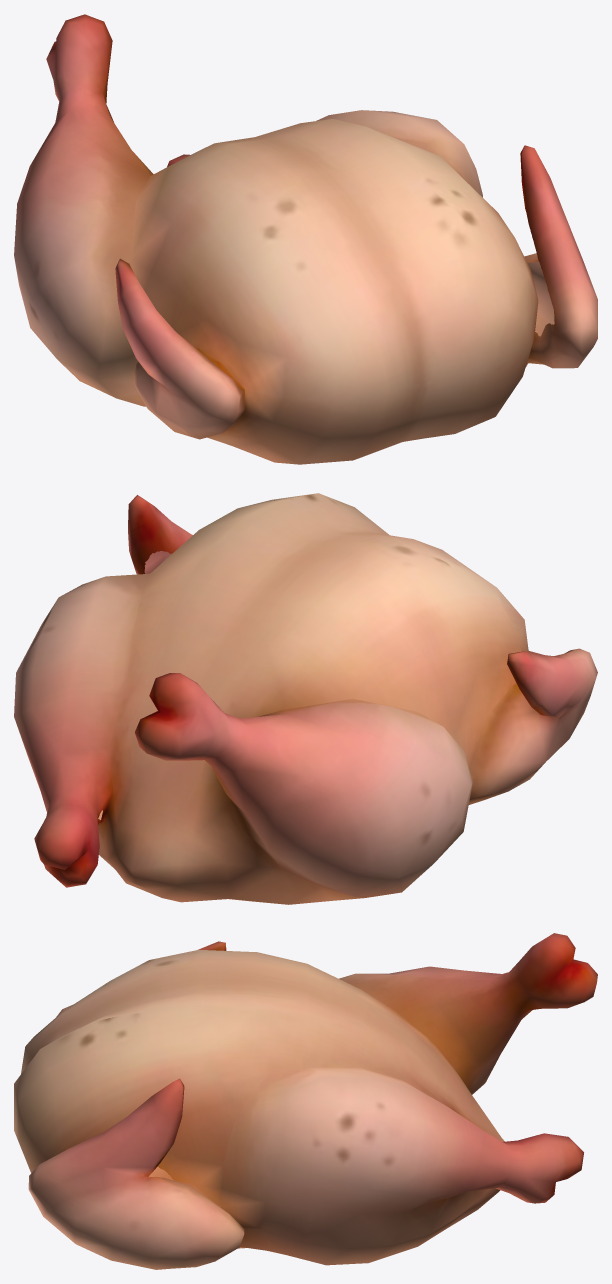
3 renders of one model, top to bottom at view 1: azimuth 30°, elevation 25°; view 2: azimuth 150°, elevation 25°; view 3: azimuth 270°, elevation 25°, orthographic. The views are drawn at different scales.
Visible parts, largest first — view 1: SM_Bird_Raw_01_LOD0; view 2: SM_Bird_Raw_01_LOD0; view 3: SM_Bird_Raw_01_LOD0.
Part boxes in pixels (<box>): SM_Bird_Raw_01_LOD0: <box>14,14,597,464</box>; SM_Bird_Raw_01_LOD0: <box>14,493,597,904</box>; SM_Bird_Raw_01_LOD0: <box>14,933,597,1269</box>.
Size of the model in its own units: 0.382 by 0.2363 by 0.4757.
1 material, 1 textured.
